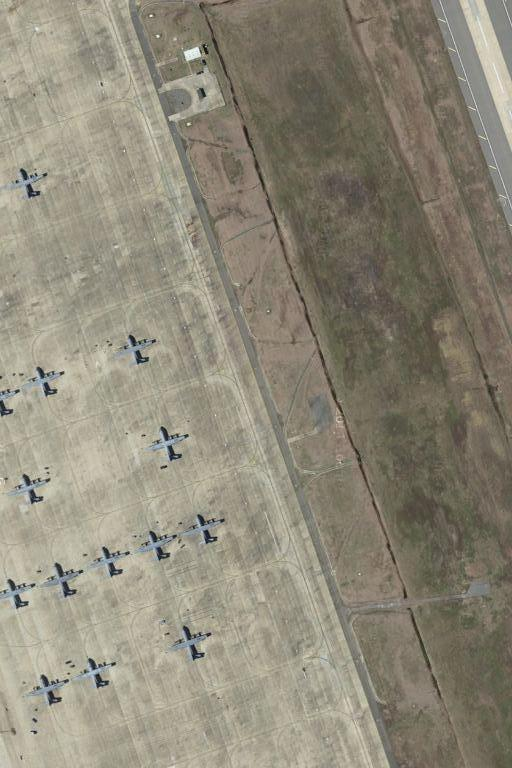C-130: (168, 621, 212, 669), (8, 467, 54, 511), (179, 509, 227, 551), (24, 670, 71, 712), (135, 525, 181, 566), (40, 560, 86, 601), (86, 543, 131, 584), (74, 654, 118, 695), (112, 331, 157, 371), (147, 426, 188, 469), (5, 165, 48, 204), (20, 365, 66, 401), (0, 574, 38, 616)
